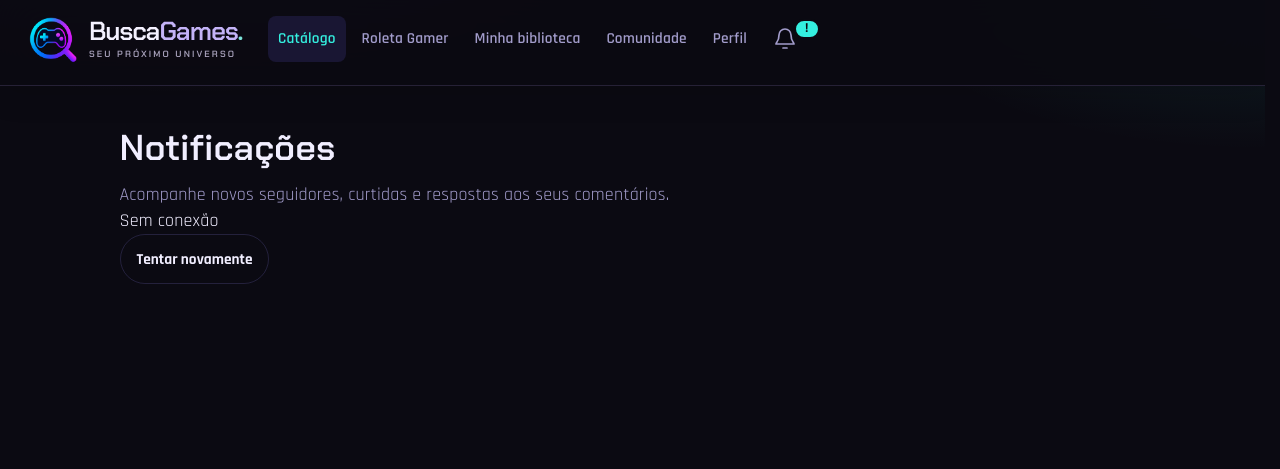
mostra carregamento, erro recuperável e lista vazia
The image size is (1280, 469).
Later steps or results of the test are not shown.
What coordinates should you click on to do the following:
click the button "Tentar novamente"
I would click on:
 (194, 259)
Its box is x1=120 y1=234 x2=270 y2=284.
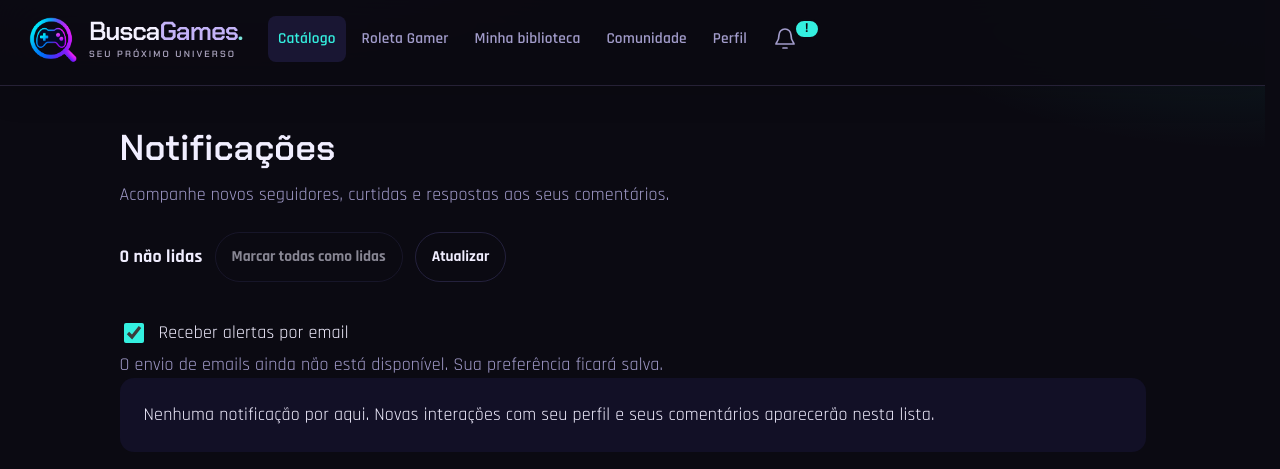
Result: the text "Nenhuma notificação por aqui" is shown at x1=144 y1=403 x2=935 y2=426
